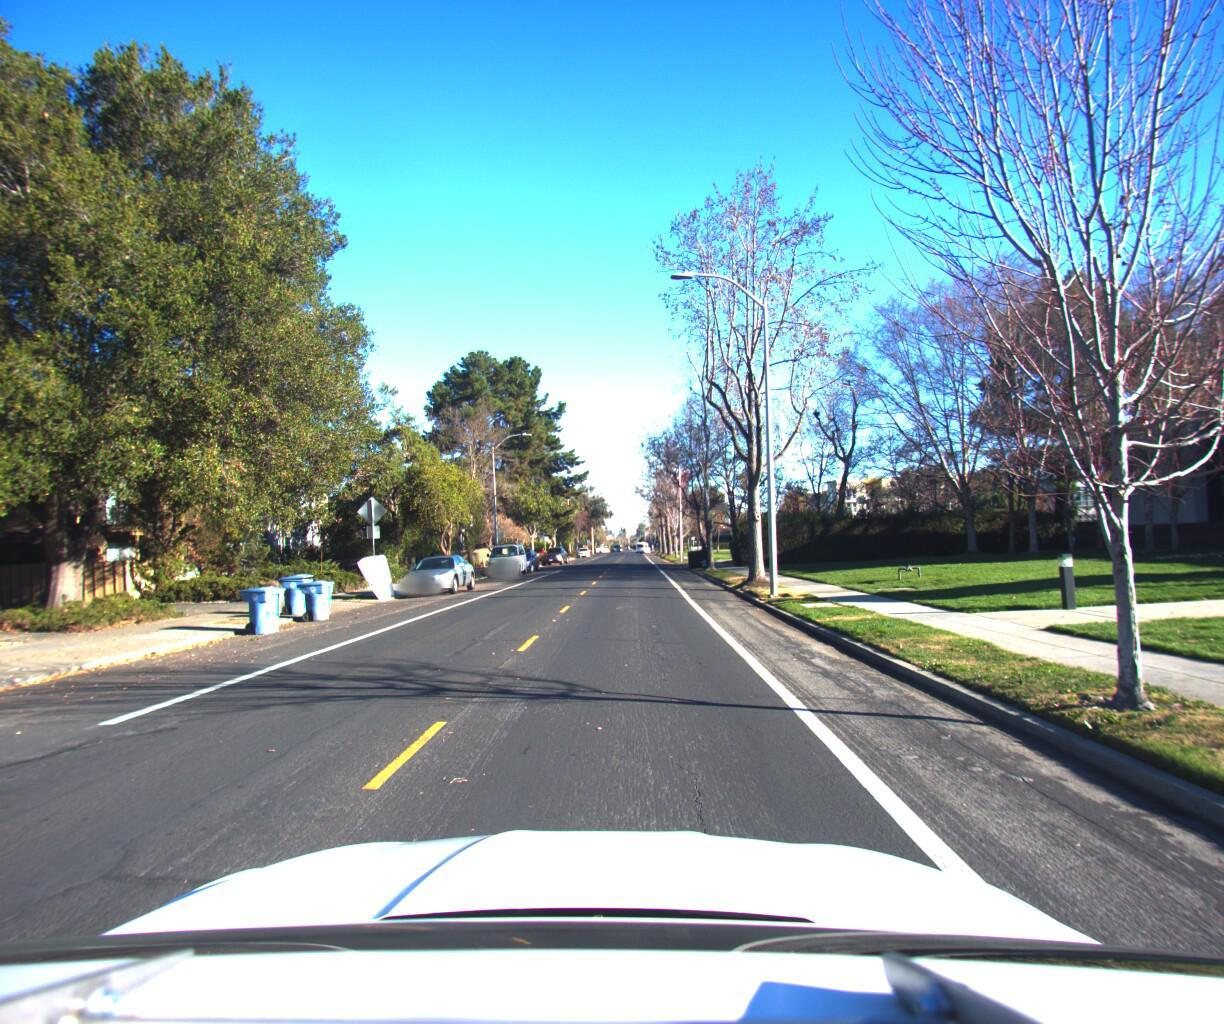car: (397, 552, 481, 597), (484, 539, 530, 576), (503, 545, 542, 573)
